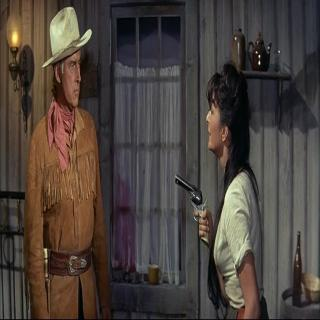gun: (175, 160, 212, 248)
